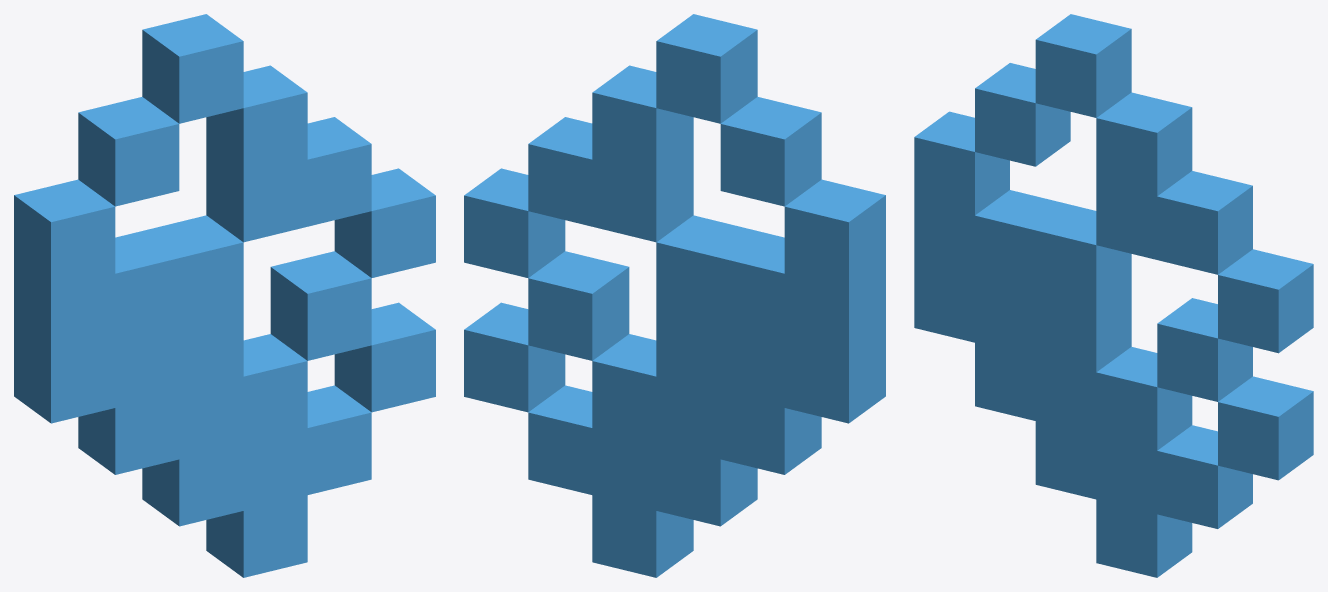
File: Book-Special-Blue.vox.obj
The picture shows the model from 3 angles, left to right: view 1: azimuth 30°, elevation 25°; view 2: azimuth 150°, elevation 25°; view 3: azimuth 330°, elevation 25°; orthographic projection. The views are drawn at different scales.
Size of the model in its own units: 0.6 by 0.8 by 0.1.
1 material, 1 textured.
